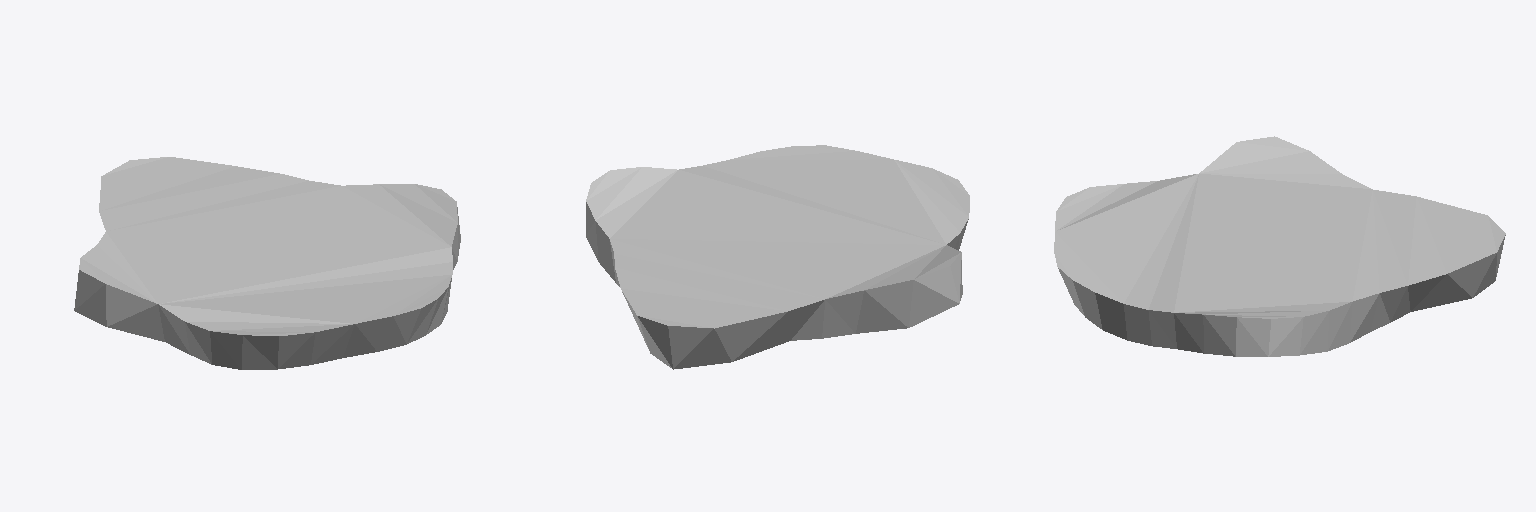
The model's file is Cookie.obj.
3 renders of one model, left to right at view 1: azimuth 30°, elevation 25°; view 2: azimuth 150°, elevation 25°; view 3: azimuth 270°, elevation 25°, orthographic.
Parts seen in each view (by area): view 1: Cylinder; view 2: Cylinder; view 3: Cylinder.
Part boxes in pixels (left/top/right/bottom): Cylinder: left=74, top=157, right=460, bottom=369; Cylinder: left=586, top=145, right=969, bottom=369; Cylinder: left=1054, top=136, right=1505, bottom=356.
Bounding box in the file's own units: 3.17 × 0.5192 × 3.32.